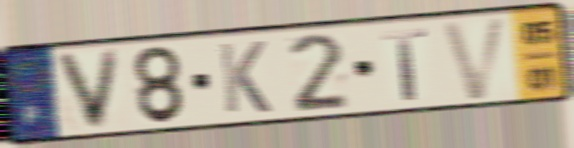2: (286, 31, 354, 115)
8: (130, 44, 186, 125)
K: (215, 39, 274, 116)
T: (378, 25, 431, 103)
V: (437, 13, 513, 104), (52, 46, 124, 133)
